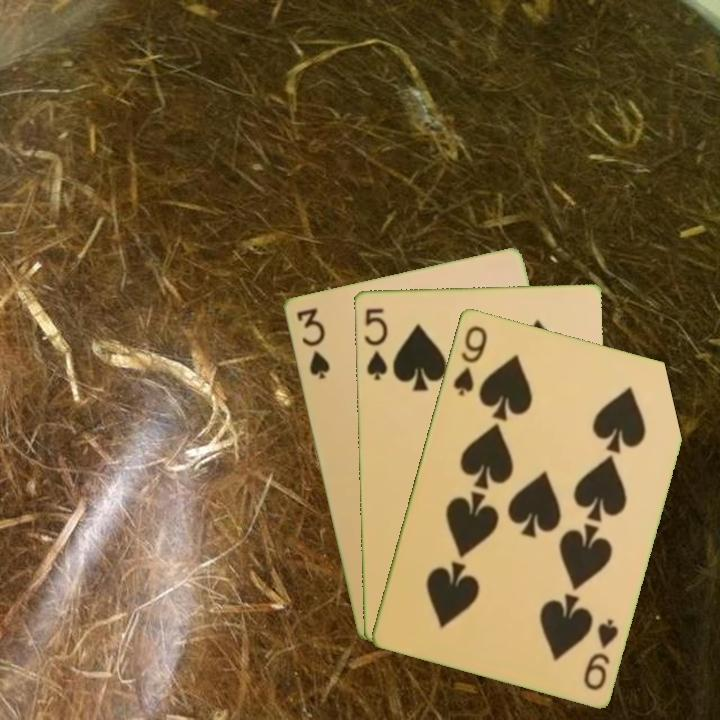3s: (292, 304, 332, 382)
5s: (361, 304, 390, 383)
9s: (579, 615, 621, 693), (449, 321, 490, 398)
